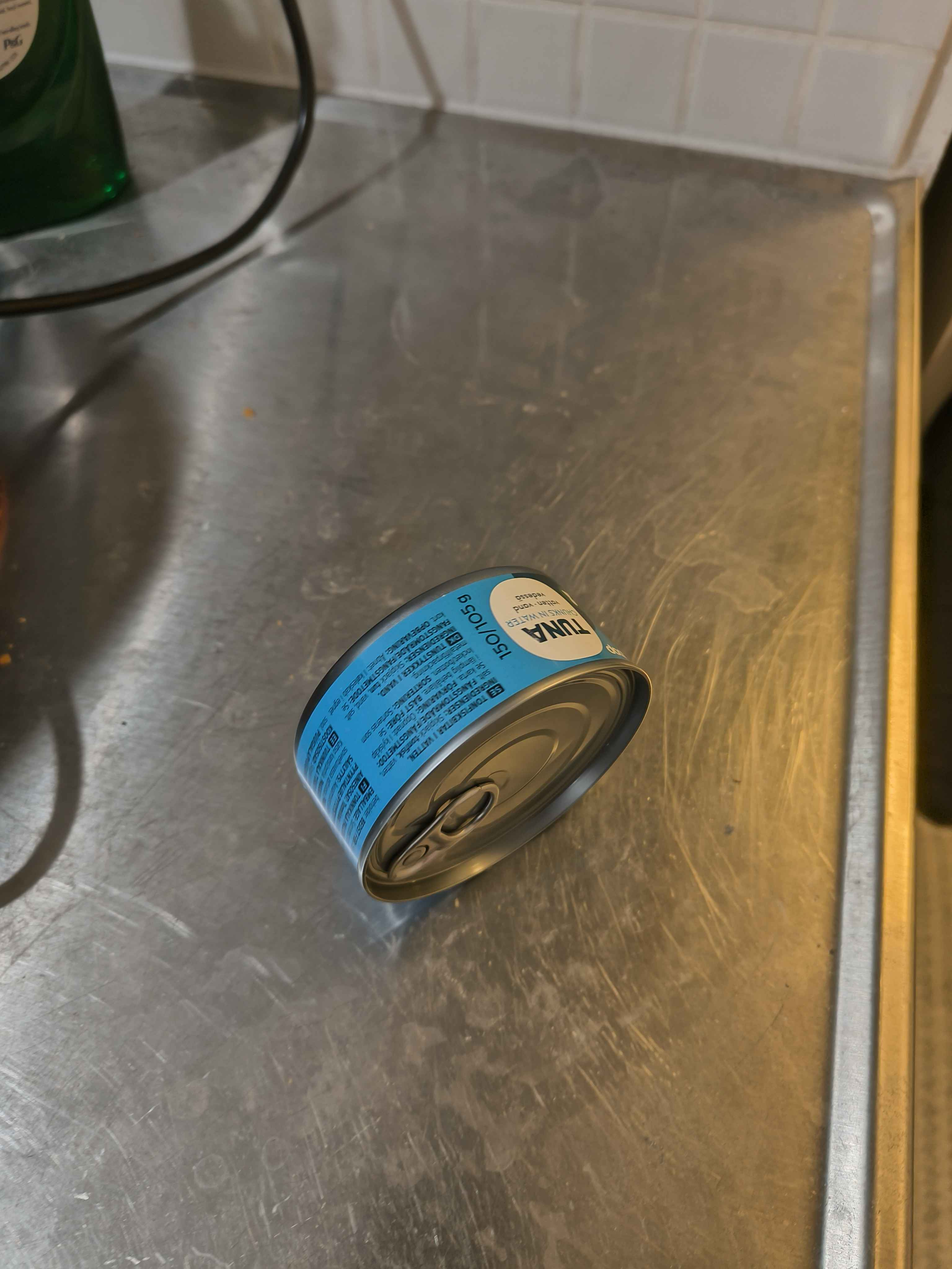Konservburk: (294, 565, 652, 905)
